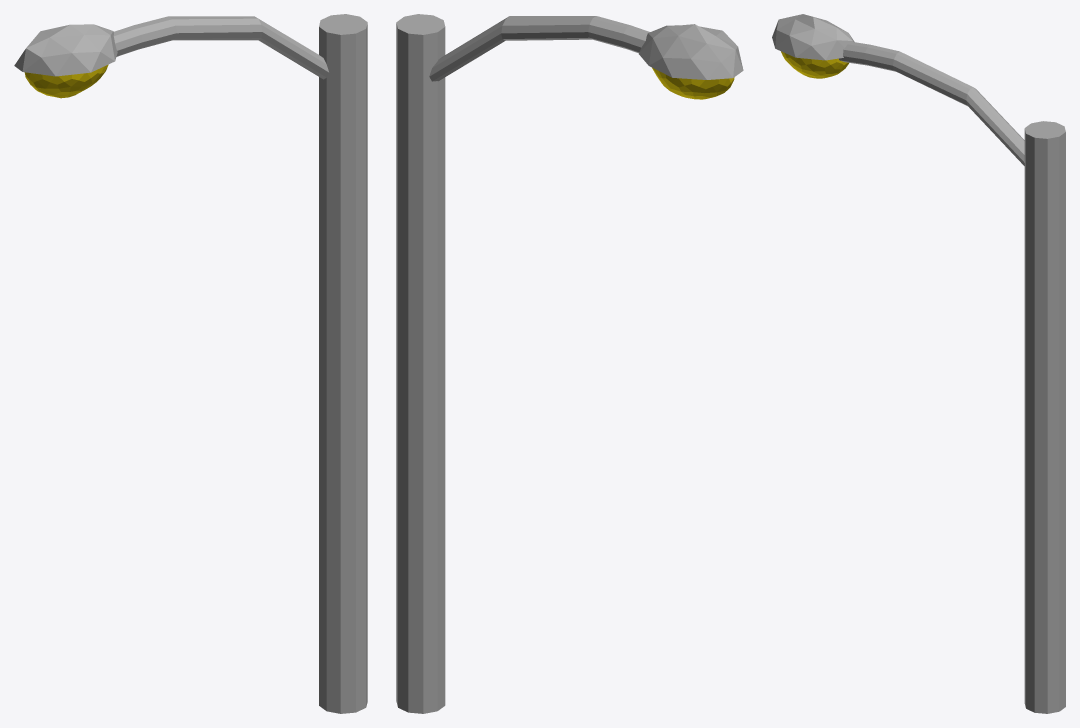
The model's file is lamp.fbx.
The picture shows the model from 3 angles, left to right: view 1: azimuth 30°, elevation 25°; view 2: azimuth 150°, elevation 25°; view 3: azimuth 330°, elevation 25°; orthographic projection. The views are drawn at different scales.
Visible parts, largest first — view 1: Walec, Walec.001, gora lampy, Kula ico; view 2: Walec, Walec.001, gora lampy, Kula ico; view 3: Walec, Walec.001, gora lampy, Kula ico.
Part boxes in pixels (<box>): Walec: <box>319,14,367,713</box>; Walec.001: <box>113,16,329,79</box>; gora lampy: <box>14,24,117,76</box>; Kula ico: <box>24,64,108,98</box>; Walec: <box>396,14,445,713</box>; Walec.001: <box>429,16,649,81</box>; gora lampy: <box>639,24,743,79</box>; Kula ico: <box>652,67,734,99</box>; Walec: <box>1024,121,1065,713</box>; Walec.001: <box>839,42,1024,165</box>; gora lampy: <box>772,14,854,60</box>; Kula ico: <box>781,51,848,78</box>.
Size of the model in its own units: 317 by 659 by 69.08.
